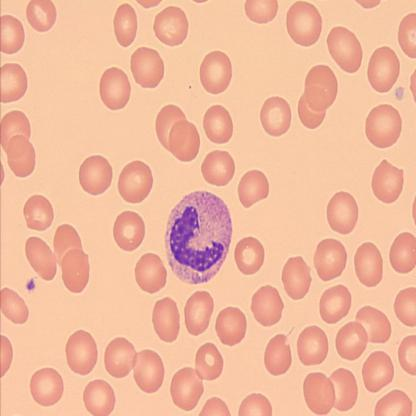Band Neutrophil: (163, 186, 234, 286)
